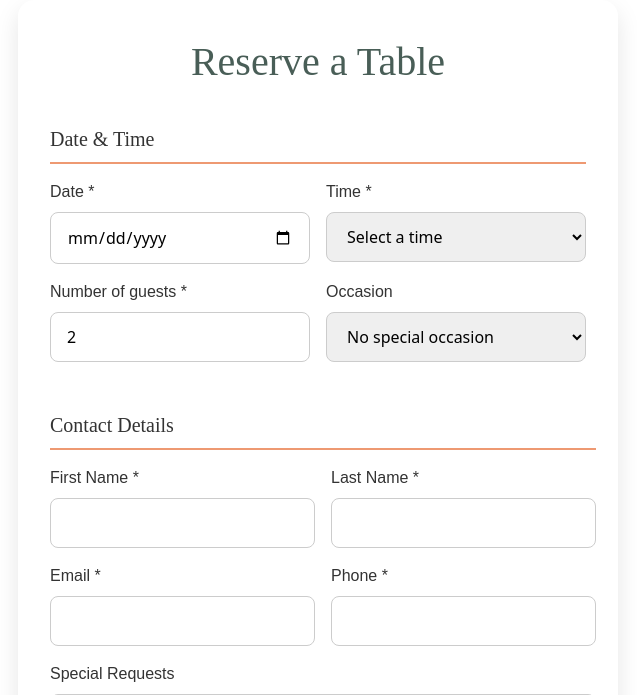
Scenario: BookingForm validation - invalid states › shows error for invalid email format
The image size is (637, 695).
Type "invalid-email" into the field labelled "Email *" at (182, 621), box [50,596,315,646]
(page scrolled)
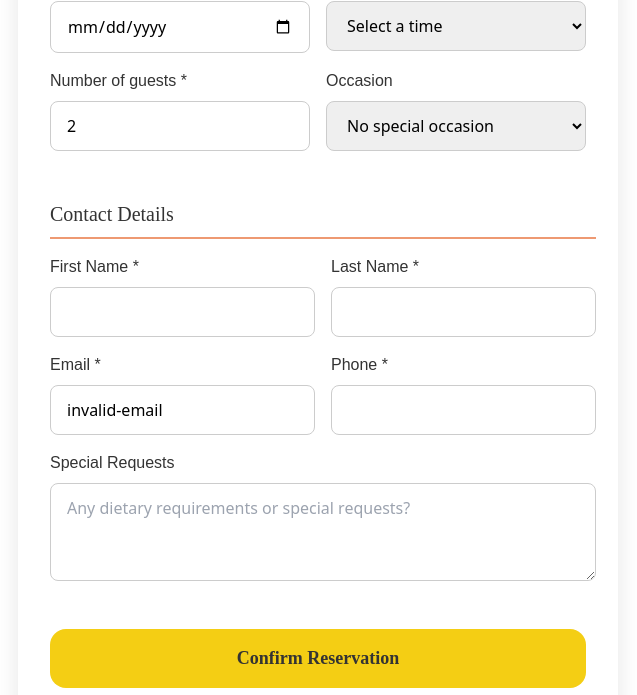
Click the button "Confirm Reservation" at (318, 658), box [50,629,586,688]
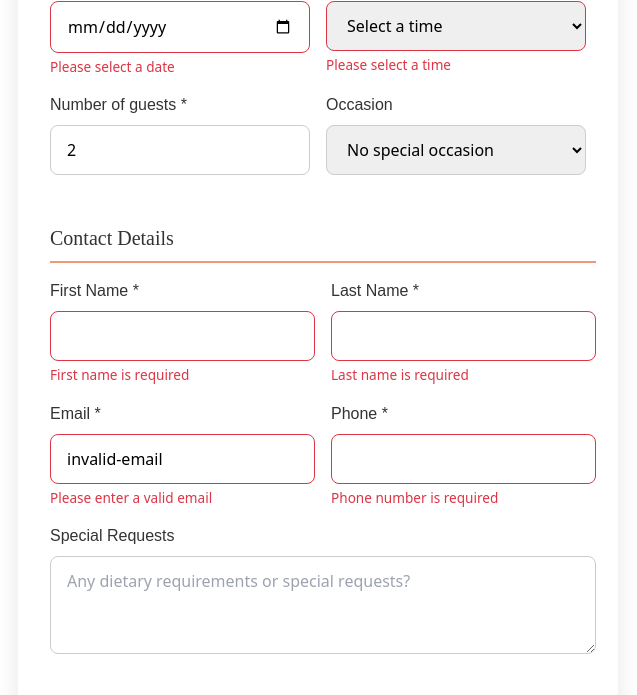
Check: the text "Please enter a valid email" is shown, box [50,488,212,507]
